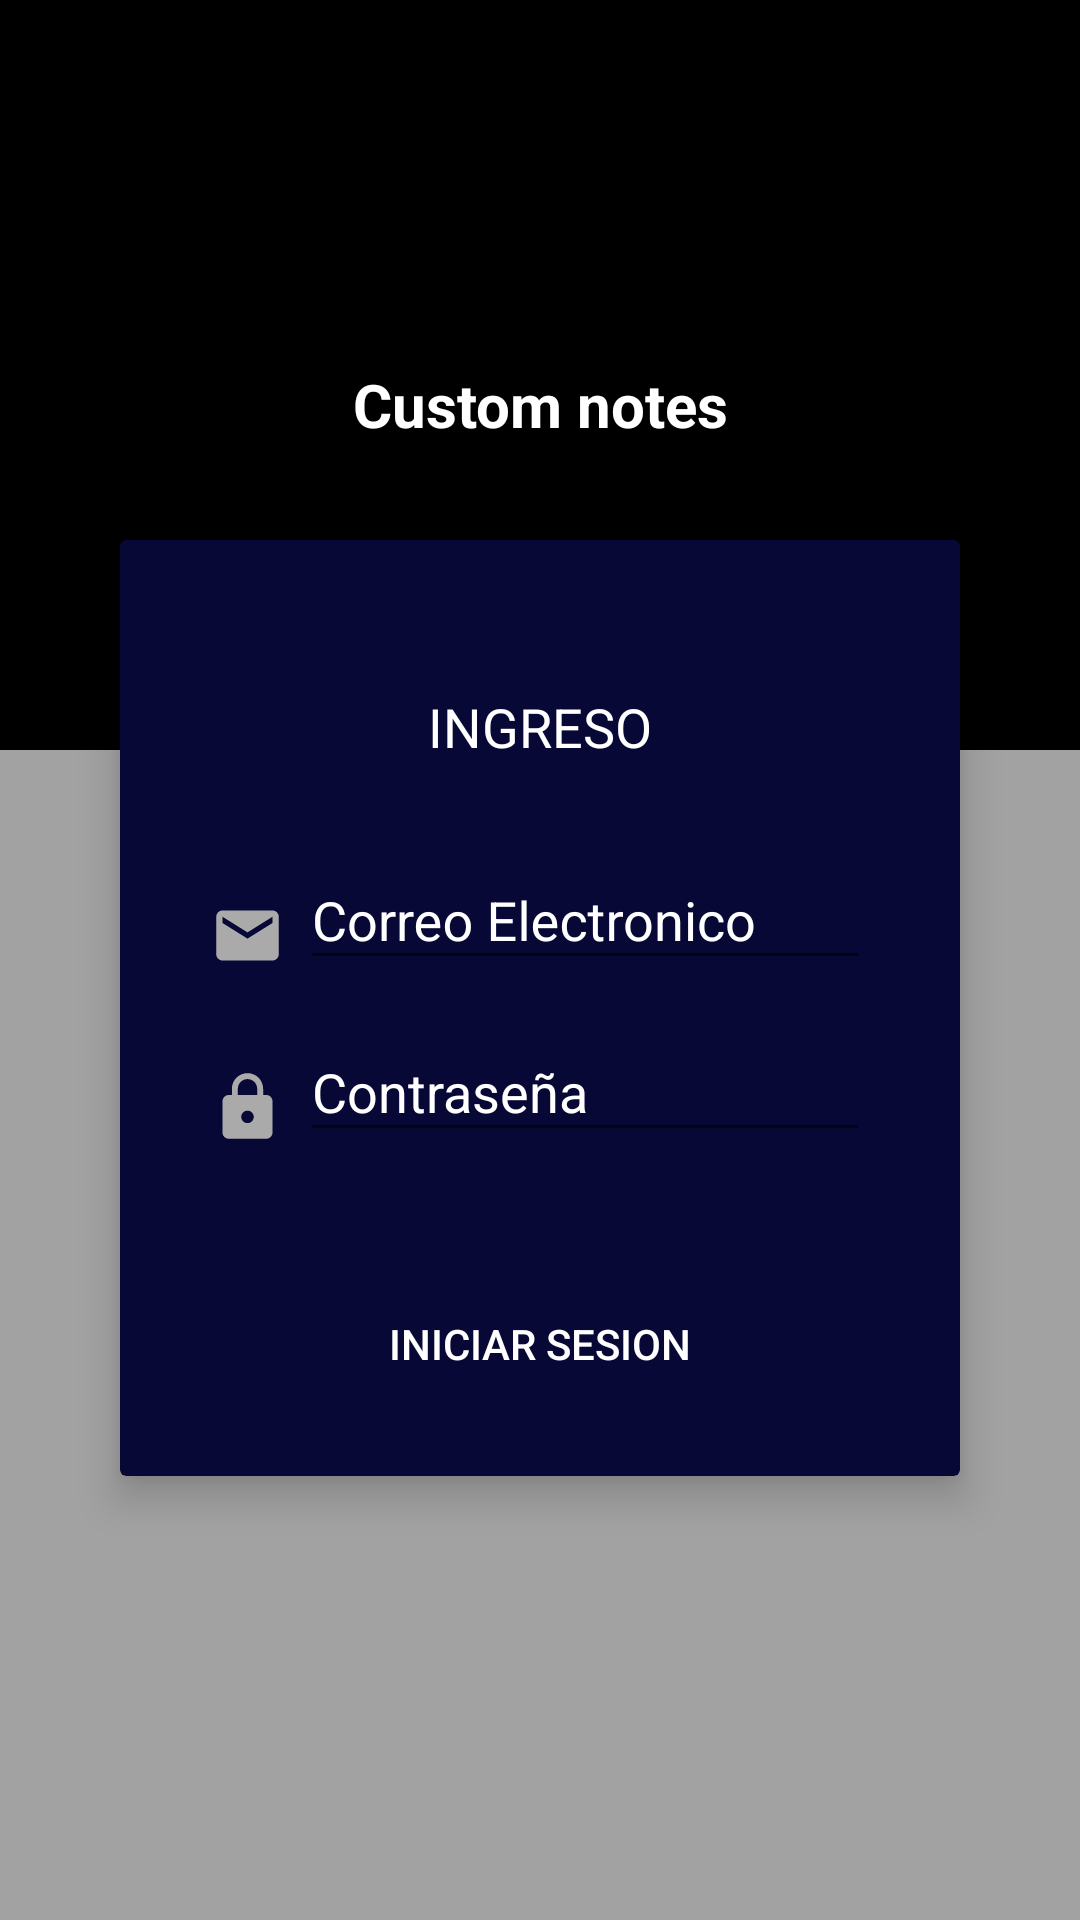

Named icons in this screenshot (1080px x 1920px) and their centers, (x=x, y=y):
emailgray: (x=247, y=935)
passwordgray: (x=247, y=1106)
